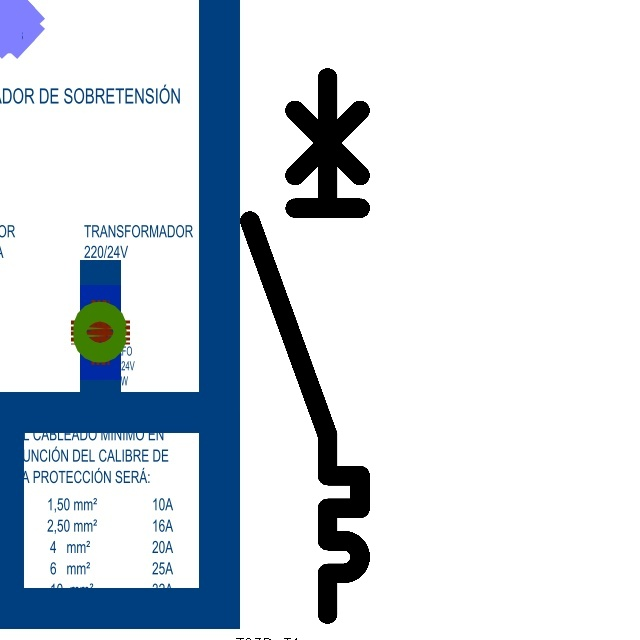interruptor_termomagnetico: (236, 64, 374, 628)
